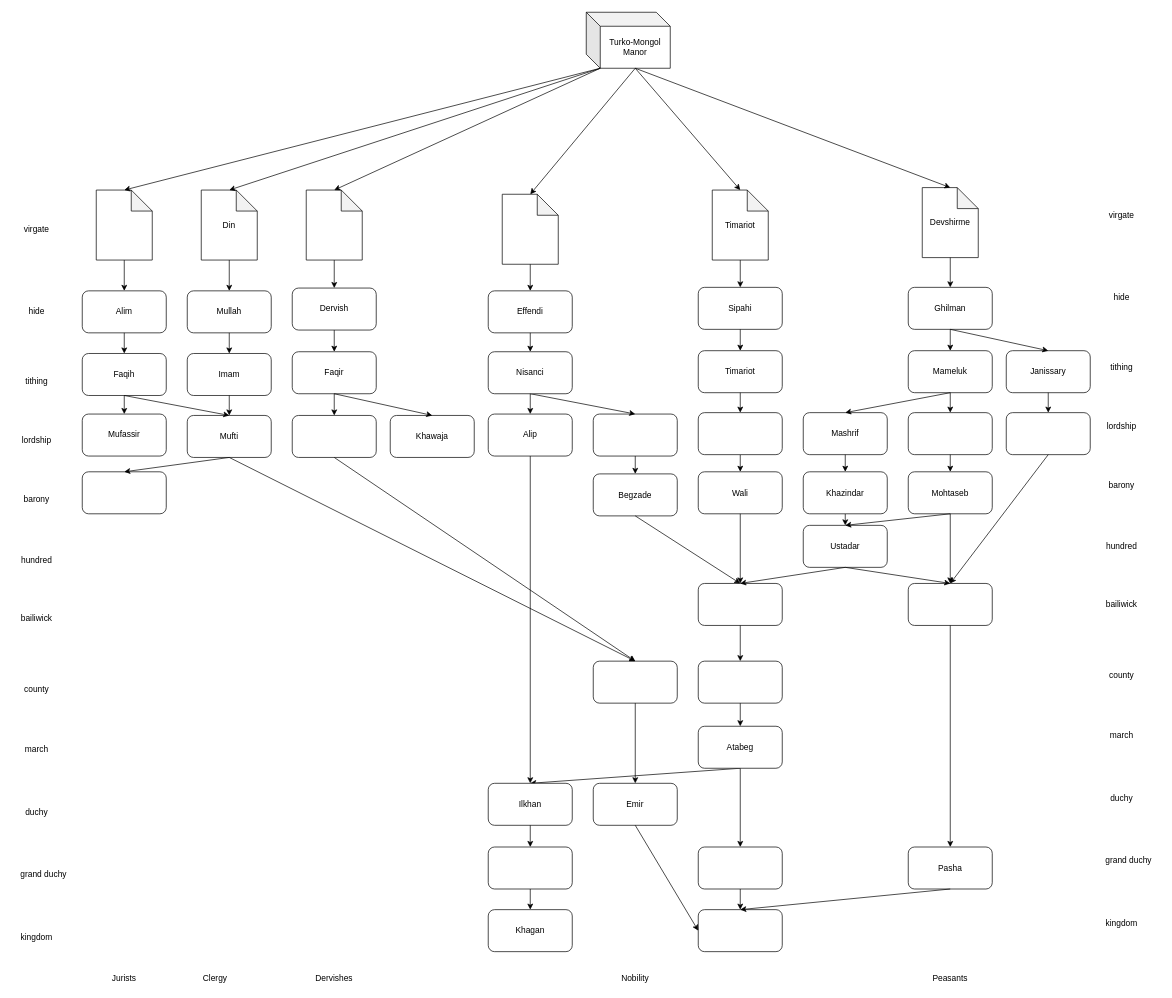
Image size: 1172x998. Some labels were removed from this diagram. Each missing label, with the centre of its shape:
Agha: (x=1048, y=433)
Bey: (x=740, y=681)
Beylerbey: (x=740, y=867)
Bogatyr: (x=635, y=434)
Hajib: (x=950, y=433)
Khan: (x=530, y=867)
Khaskiya: (x=950, y=604)
Murshid: (x=334, y=436)
Qadi: (x=124, y=492)
Sanjak Bey: (x=740, y=604)
Sheikh: (x=635, y=681)
Soubashi: (x=740, y=433)
Sultan: (x=740, y=930)
Tafsir: (x=124, y=224)
Tariq: (x=334, y=224)
Yazgurt: (x=530, y=229)
